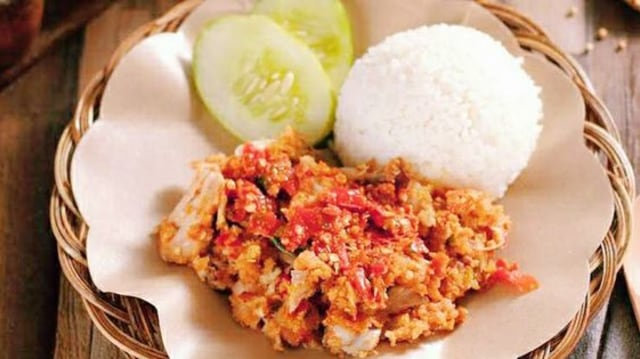ayam_geprek: (165, 139, 513, 353)
